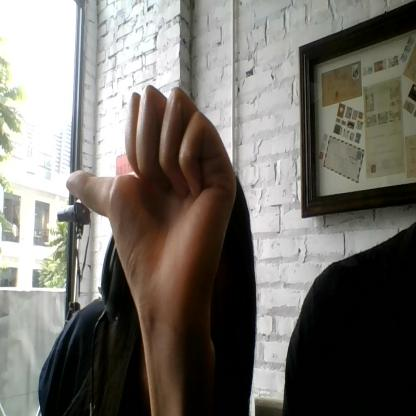right: (68, 85, 237, 338)
